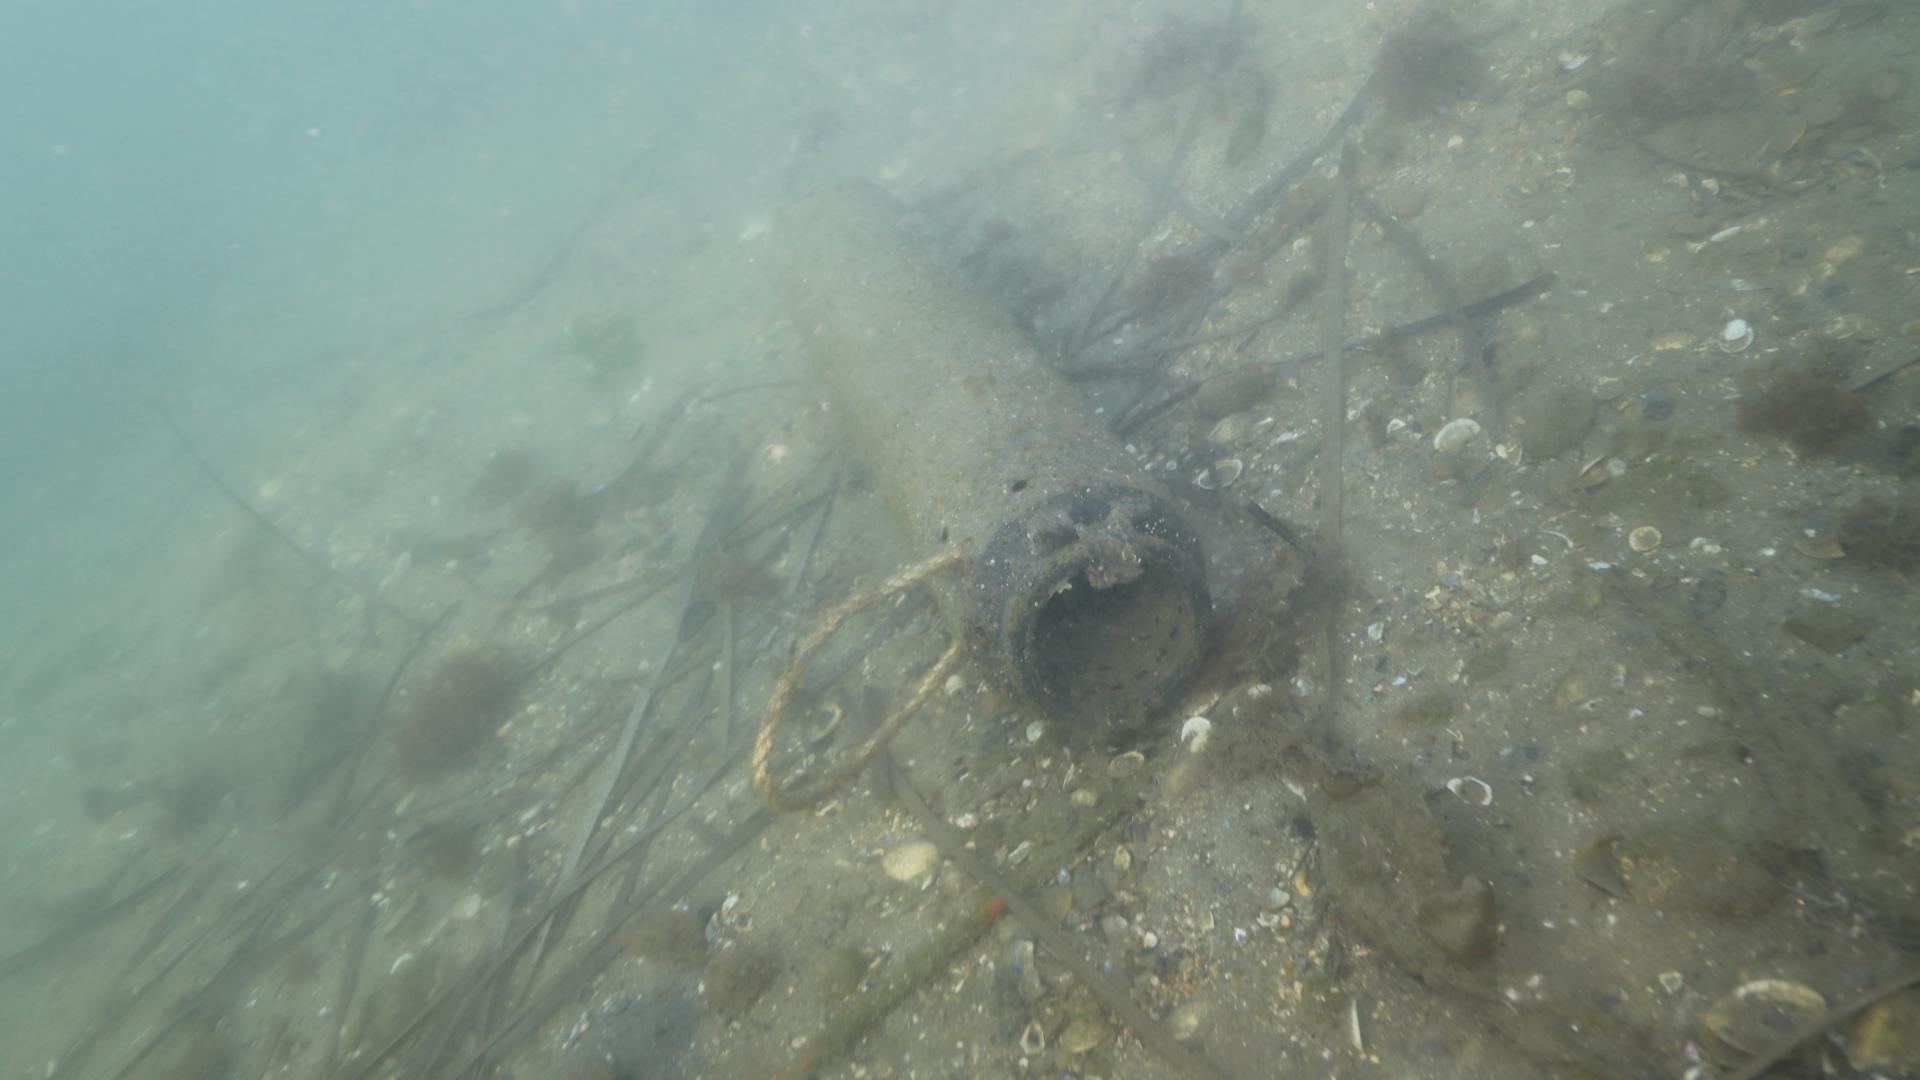eel fish trap: (771, 178, 1230, 756)
rope: (744, 541, 963, 811)
